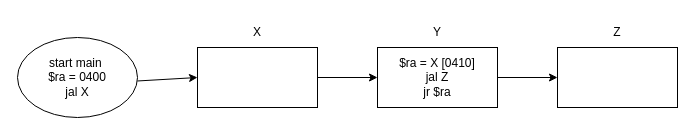
Image size: 695x135. Some labels were removed from this diagram. Here are the shapes that lost their labels. From the top down, the centre of each, then its label:
At [257,77]: "$ra = main [0400] jal Y jr $ra".
At [617,77]: "$ra = Y [0420] jr $ra".
